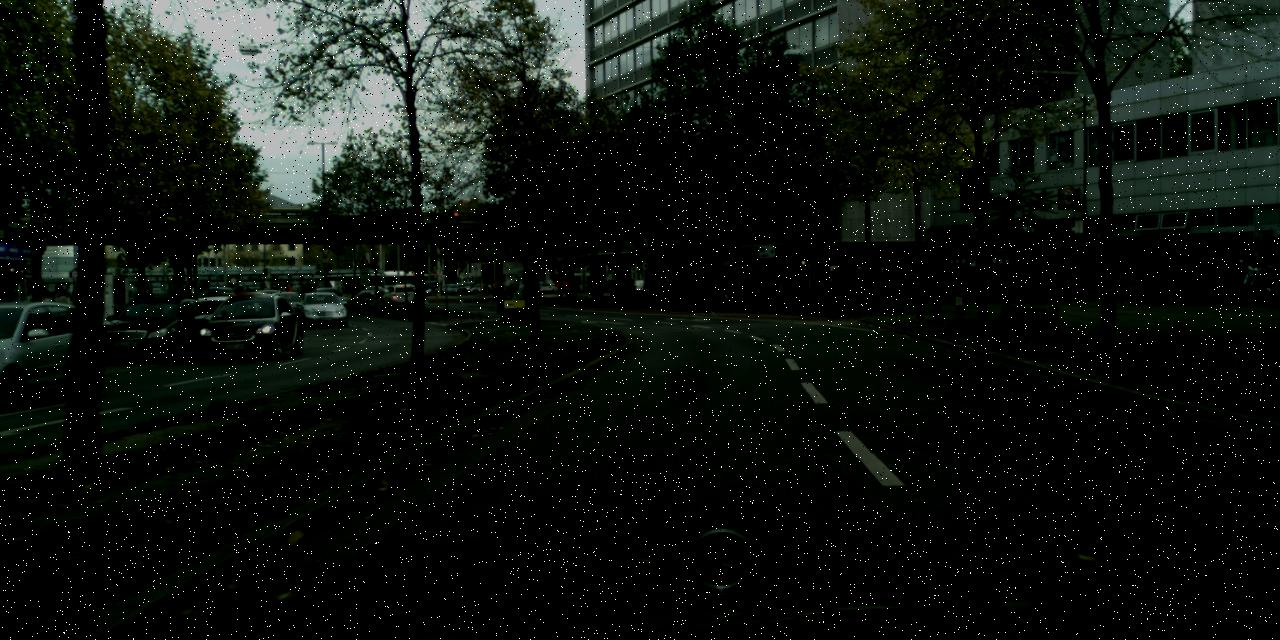ped: (1027, 259, 1044, 304), (302, 280, 312, 306), (610, 276, 619, 300), (623, 277, 632, 298), (594, 278, 602, 300), (284, 283, 292, 303)
